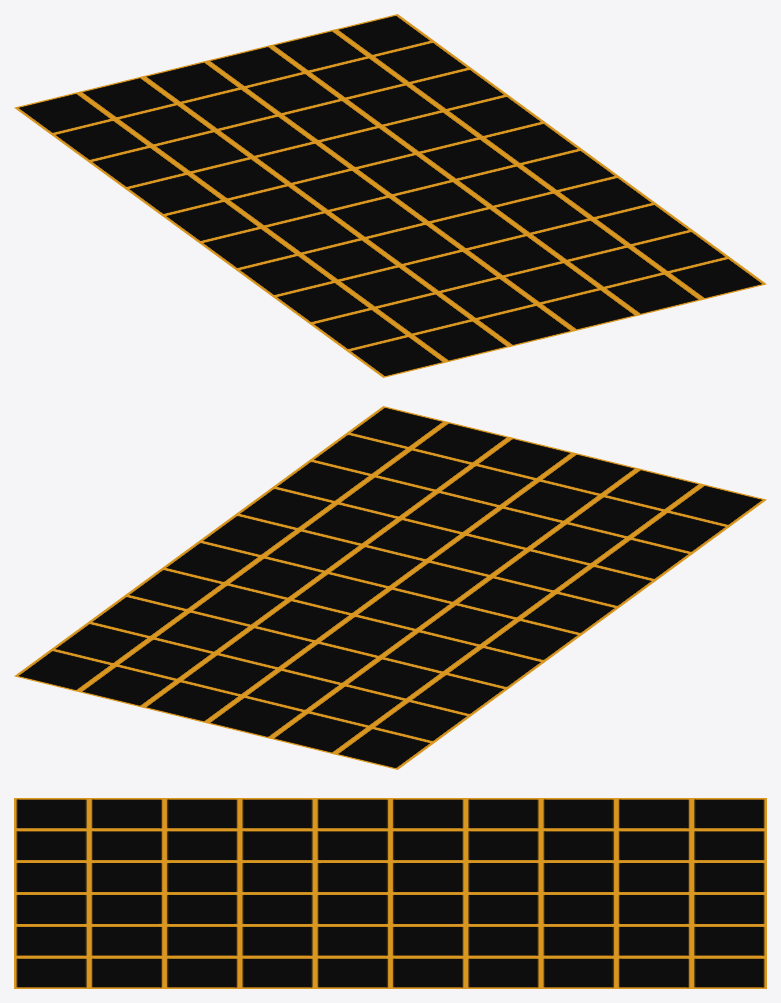
File: Straight.fbx
The picture shows the model from 3 angles, top to bottom: view 1: azimuth 30°, elevation 25°; view 2: azimuth 150°, elevation 25°; view 3: azimuth 270°, elevation 25°; orthographic projection.
Visible parts, largest first — view 1: pPlane2; view 2: pPlane2; view 3: pPlane2.
Part boxes in pixels (<box>): pPlane2: <box>14,14,766,377</box>; pPlane2: <box>14,406,766,769</box>; pPlane2: <box>14,798,766,988</box>.
Bounding box in the file's own units: 15 × 0 × 25.
